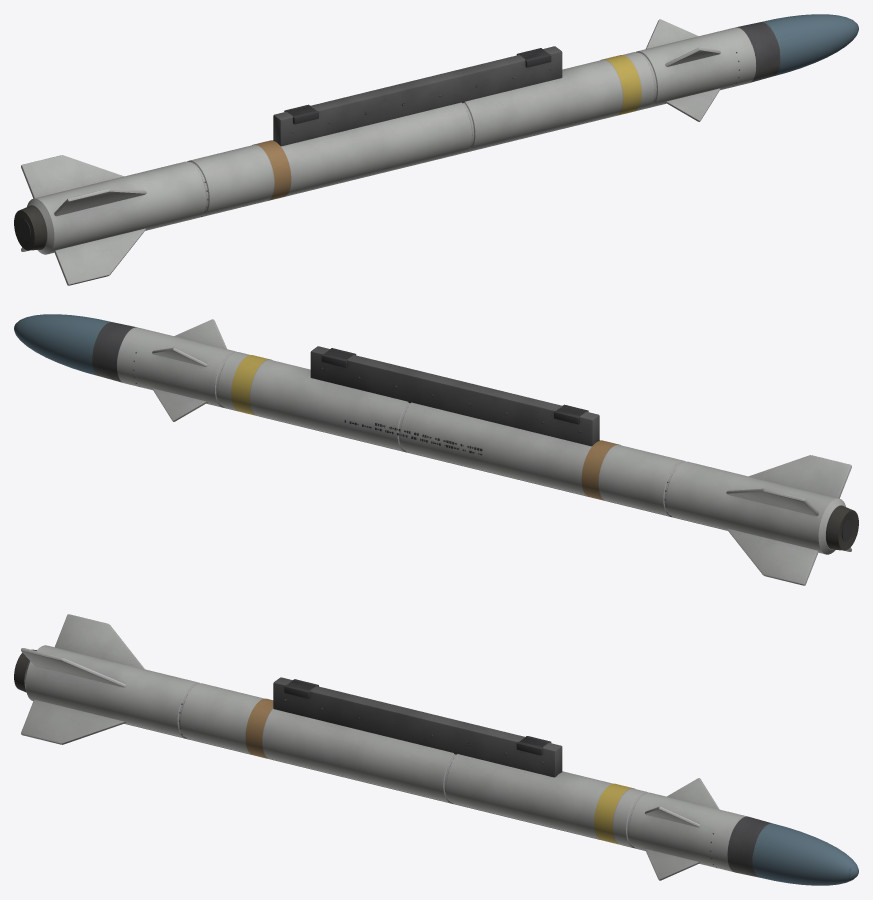
Rendered from srm_1.glb.
3 renders of one model, top to bottom at view 1: azimuth 30°, elevation 25°; view 2: azimuth 150°, elevation 25°; view 3: azimuth 330°, elevation 25°, orthographic.
Parts seen in each view (by area): view 1: srm_1; view 2: srm_1; view 3: srm_1.
Boxes of the visible parts, box(x1,y1,x2,y2) form: srm_1: box(14, 14, 858, 285); srm_1: box(14, 314, 858, 585); srm_1: box(14, 614, 858, 885).
Size of the model in its own units: 1 by 0.1098 by 0.1006.
Materials: 9 (9 with a texture image).
